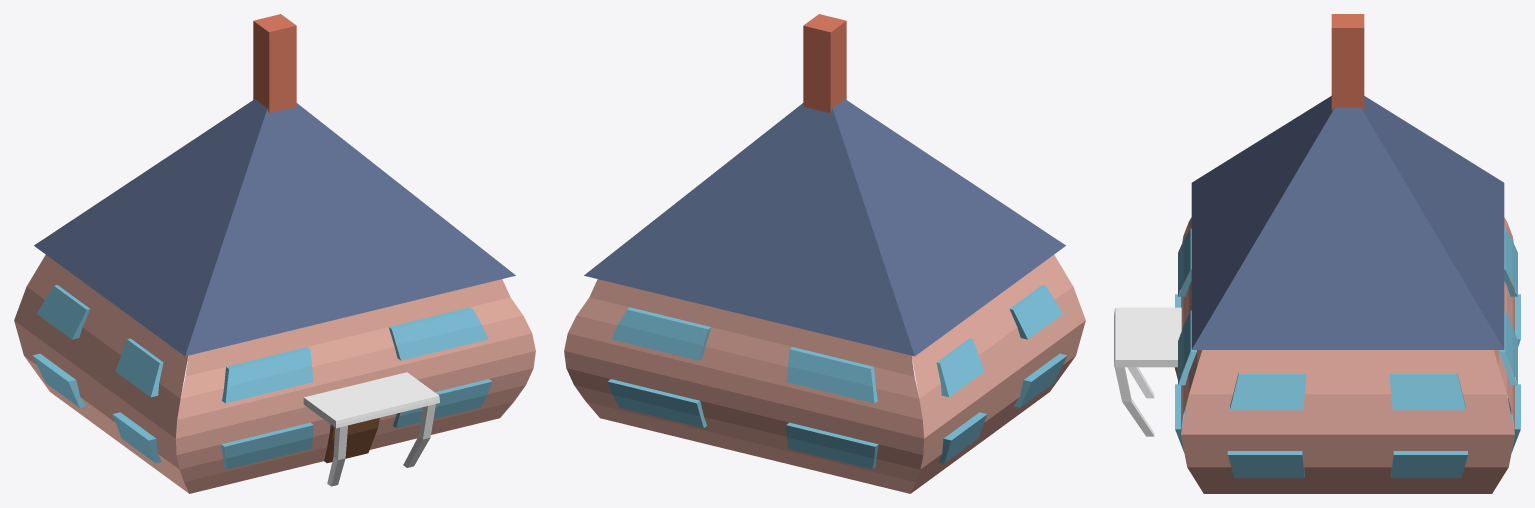
The model's file is house_2.glb.
3 views of the same model, side by side, from view 1: azimuth 30°, elevation 25°; view 2: azimuth 150°, elevation 25°; view 3: azimuth 270°, elevation 25° (orthographic). The views are drawn at different scales.
Visible parts, largest first — view 1: house_2_roof_slate, house_2_wall_pink, house_2_window, house_2_white, house_2_brick, house_2_door; view 2: house_2_roof_slate, house_2_wall_pink, house_2_window, house_2_brick; view 3: house_2_roof_slate, house_2_wall_pink, house_2_window, house_2_white, house_2_brick.
Boxes of the visible parts, box(x1,y1,x2,y2) form: house_2_roof_slate: box(34, 99, 515, 356); house_2_wall_pink: box(14, 255, 535, 493); house_2_window: box(32, 285, 492, 469); house_2_white: box(303, 372, 439, 486); house_2_brick: box(253, 14, 296, 113); house_2_door: box(324, 417, 379, 463); house_2_roof_slate: box(584, 99, 1065, 356); house_2_wall_pink: box(564, 255, 1085, 493); house_2_window: box(607, 285, 1067, 469); house_2_brick: box(803, 14, 846, 113); house_2_roof_slate: box(1191, 96, 1504, 349); house_2_wall_pink: box(1181, 217, 1514, 493); house_2_window: box(1175, 228, 1520, 478); house_2_white: box(1114, 307, 1181, 436); house_2_brick: box(1331, 14, 1364, 110).
Bounding box in the file's own units: 11.12 × 11 × 10.27.
